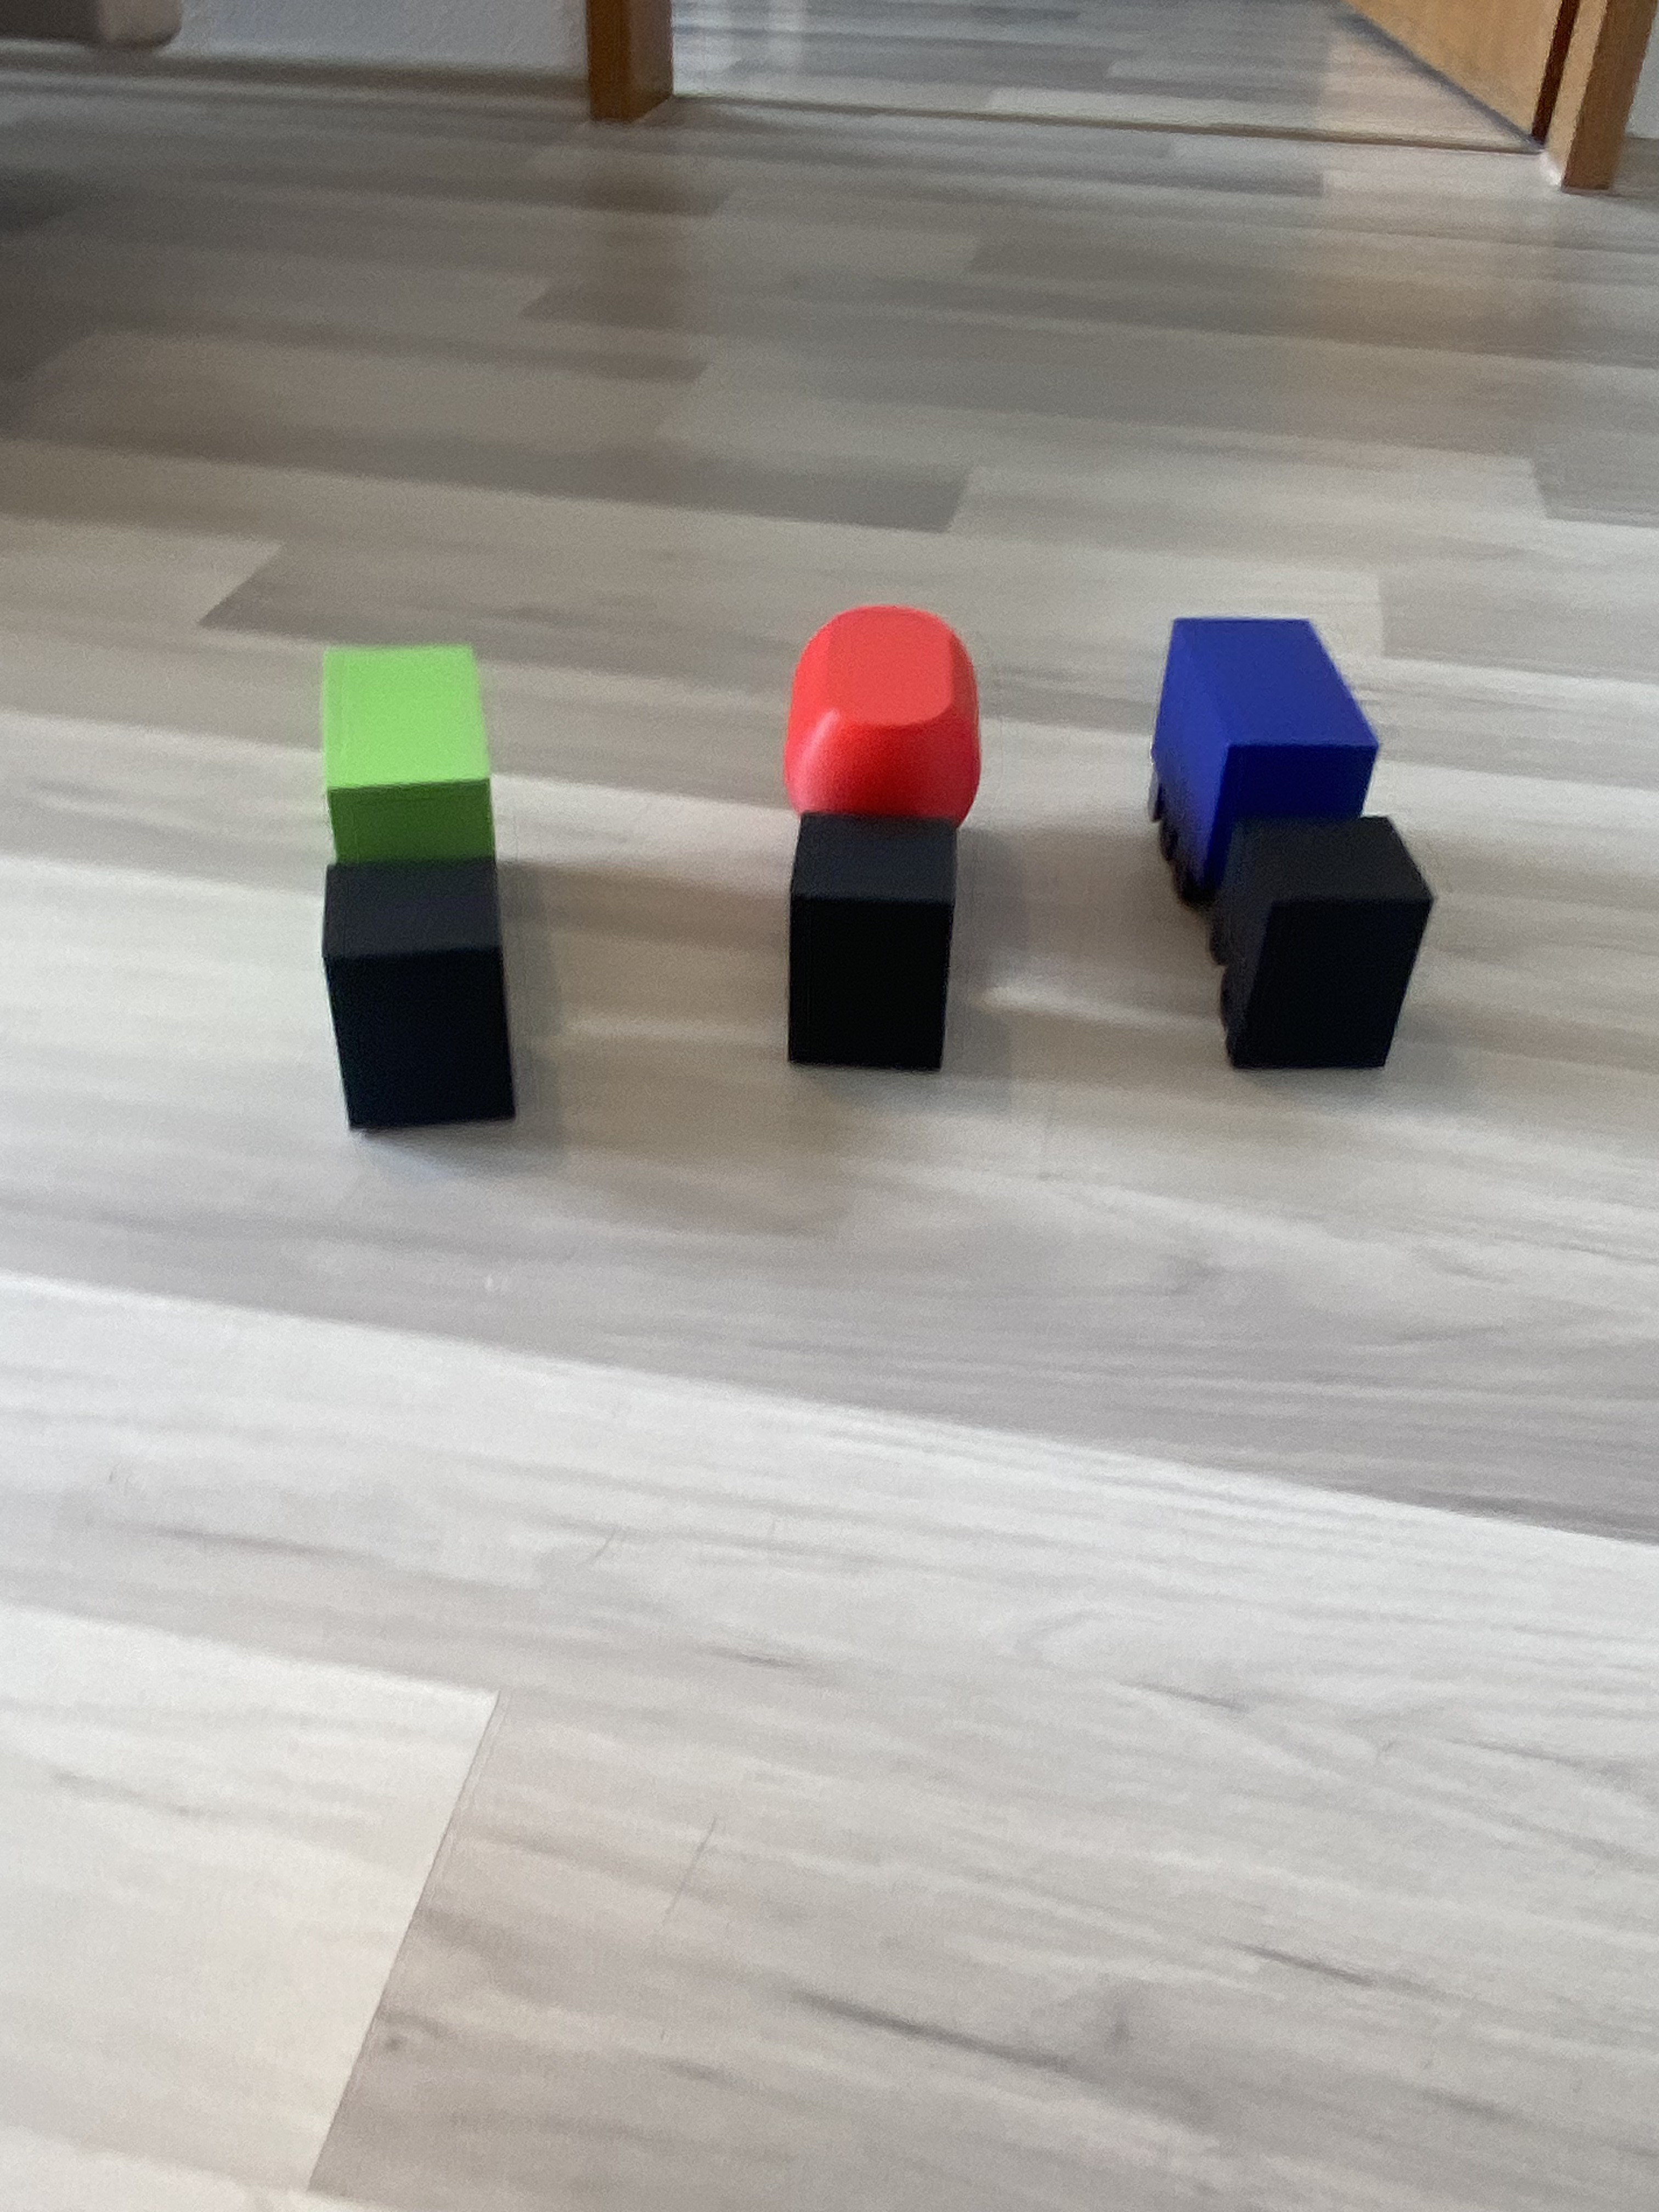blue_truck: (1065, 707, 1532, 984)
green_truck: (171, 796, 653, 963)
red_truck: (647, 742, 1112, 937)
